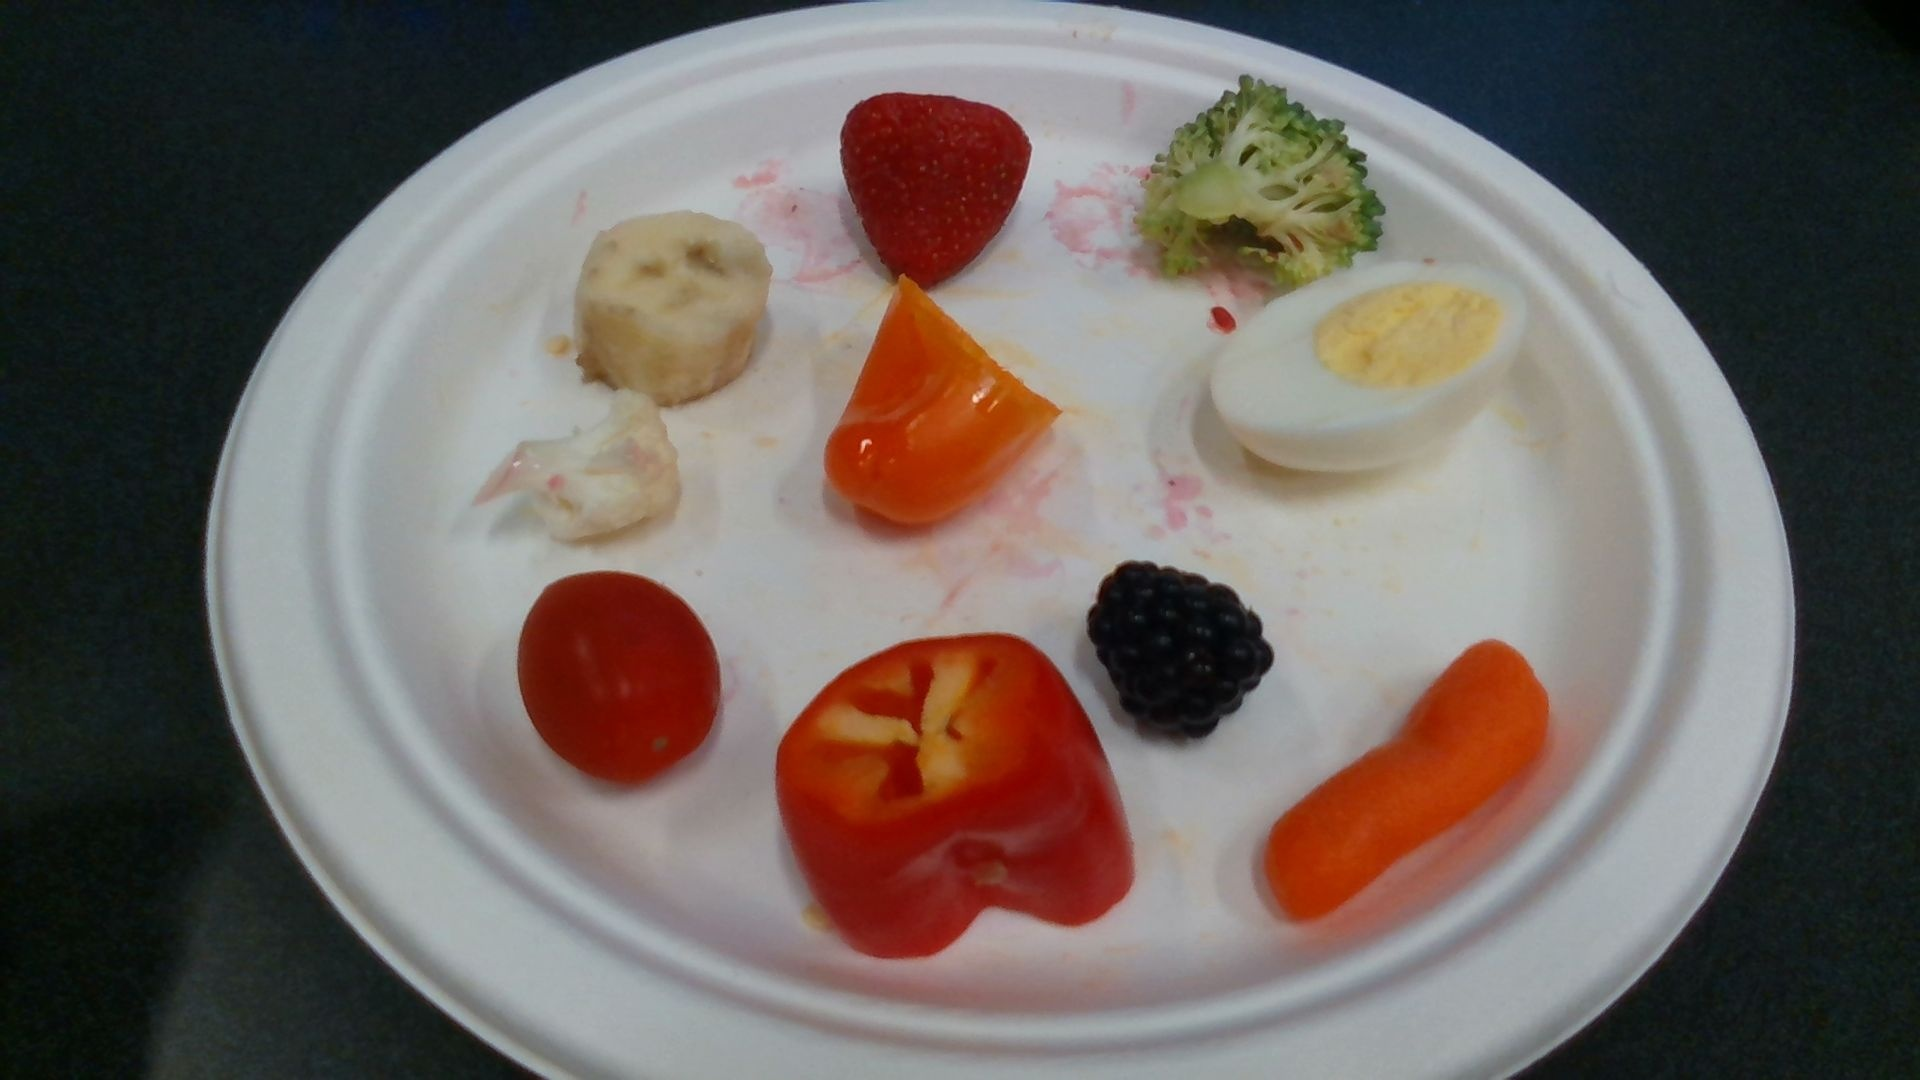banana: (579, 211, 765, 396)
bell_pepper: (777, 636, 1134, 956), (827, 276, 1062, 525)
blackberry: (1089, 560, 1273, 741)
broccoli: (1135, 80, 1379, 280)
carrot: (1265, 644, 1549, 923)
cauliflower: (479, 392, 684, 531)
cherry_tomato: (520, 571, 719, 785)
egg: (1211, 260, 1524, 468)
strawberry: (843, 95, 1030, 281)
